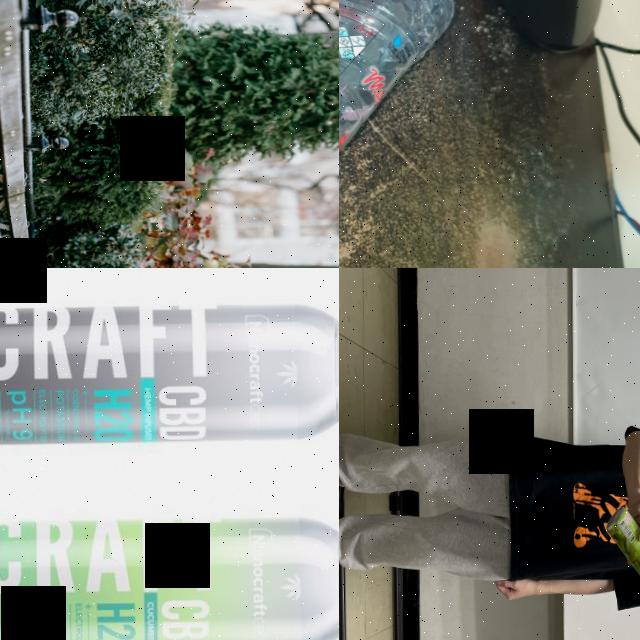bottle: (0, 298, 339, 447), (0, 512, 339, 640), (339, 0, 470, 268)
can: (603, 504, 640, 589)
